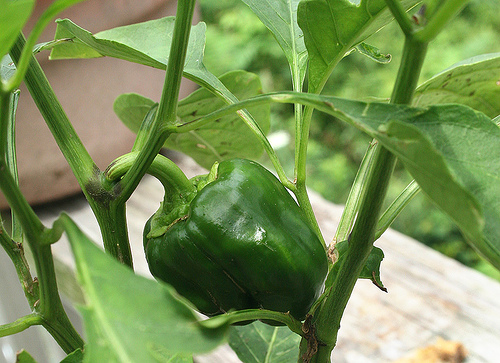capsicum: (103, 153, 331, 329)
